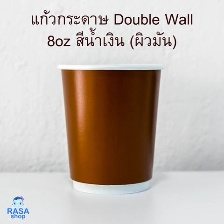paper_cup: (52, 58, 169, 198)
